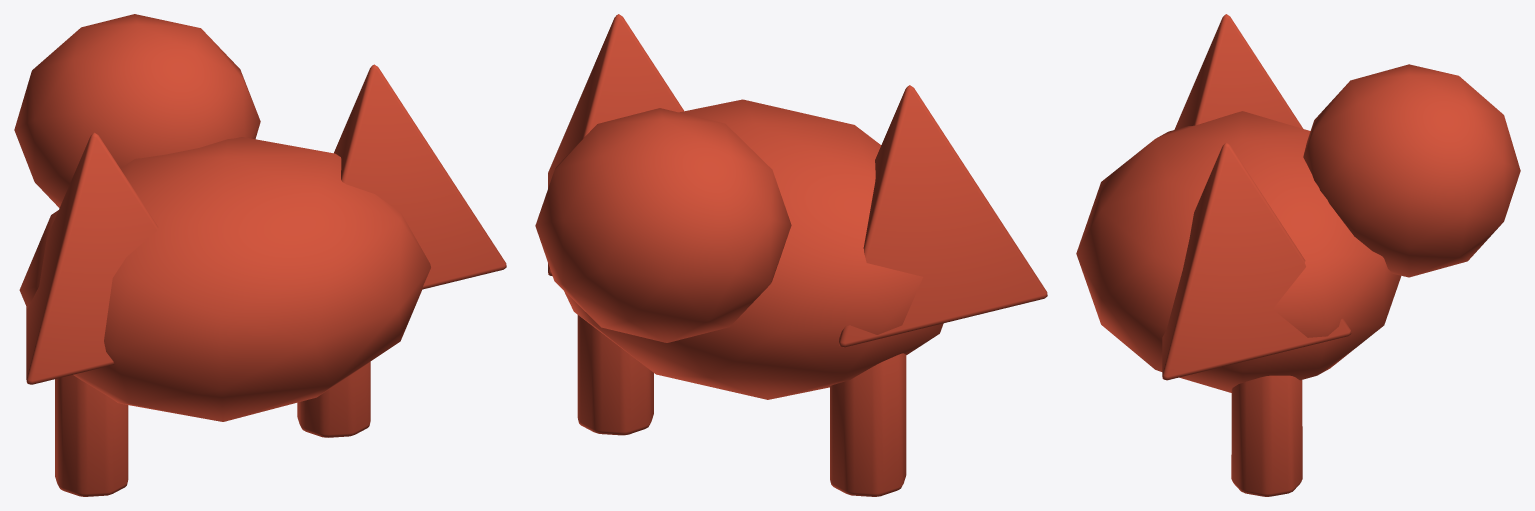
File: dragon.glb
3 views of the same model, side by side, from view 1: azimuth 30°, elevation 25°; view 2: azimuth 150°, elevation 25°; view 3: azimuth 270°, elevation 25° (orthographic). The views are drawn at different scales.
Visible parts, largest first — view 1: dragon_body, dragon_head, dragon_wing, dragon_wing.001, dragon_leg, dragon_leg.001; view 2: dragon_head, dragon_body, dragon_wing, dragon_leg, dragon_wing.001, dragon_leg.001; view 3: dragon_body, dragon_head, dragon_wing.001, dragon_leg.001, dragon_wing.
Boxes of the visible parts, <box> form: dragon_body: <box>19,137,430,421</box>; dragon_head: <box>14,14,260,207</box>; dragon_wing: <box>26,132,158,384</box>; dragon_wing.001: <box>334,64,506,289</box>; dragon_leg: <box>55,375,128,496</box>; dragon_leg.001: <box>297,361,370,437</box>; dragon_head: <box>535,108,791,342</box>; dragon_body: <box>564,99,943,399</box>; dragon_wing: <box>839,85,1047,347</box>; dragon_leg: <box>830,353,906,496</box>; dragon_wing.001: <box>548,14,683,276</box>; dragon_leg.001: <box>577,315,653,435</box>; dragon_body: <box>1076,111,1401,392</box>; dragon_head: <box>1303,64,1520,277</box>; dragon_wing.001: <box>1162,142,1351,380</box>; dragon_leg.001: <box>1231,375,1302,496</box>; dragon_wing: <box>1174,14,1303,129</box>.
Size of the model in its own units: 2.56 by 1.92 by 2.19.
